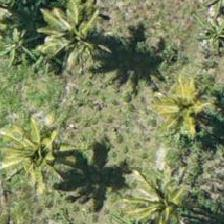coconut_tree: (23, 11, 113, 101)
